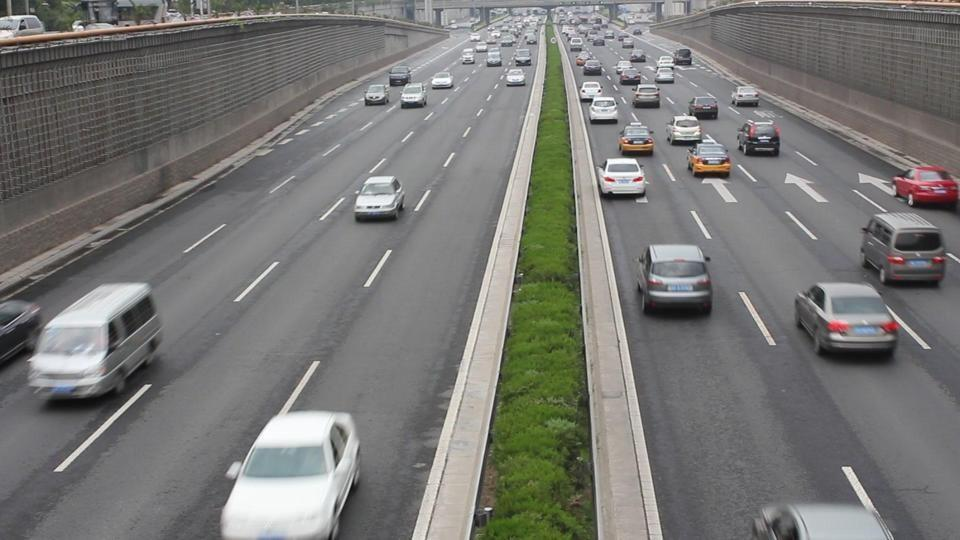car: (220, 410, 362, 538), (26, 280, 166, 401), (794, 282, 901, 359), (859, 209, 947, 287), (751, 497, 895, 539), (634, 243, 714, 316), (891, 164, 960, 209), (0, 300, 43, 366), (353, 175, 406, 222), (597, 157, 648, 200), (687, 140, 733, 179), (736, 119, 781, 157), (617, 123, 655, 156), (666, 114, 703, 145), (0, 15, 45, 36), (687, 95, 720, 120), (400, 81, 429, 108), (631, 83, 661, 109), (588, 97, 618, 123), (364, 81, 390, 105), (388, 65, 412, 87), (579, 81, 601, 102), (504, 68, 526, 87), (432, 72, 453, 89)
